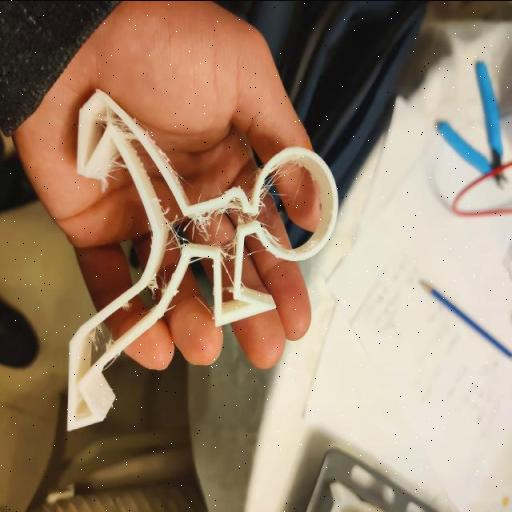stringing: (90, 104, 132, 140), (98, 151, 127, 199), (258, 167, 293, 204), (186, 209, 215, 241), (89, 322, 105, 350), (221, 260, 236, 287), (168, 224, 182, 252), (222, 238, 236, 264), (222, 198, 240, 214), (148, 276, 158, 292)
